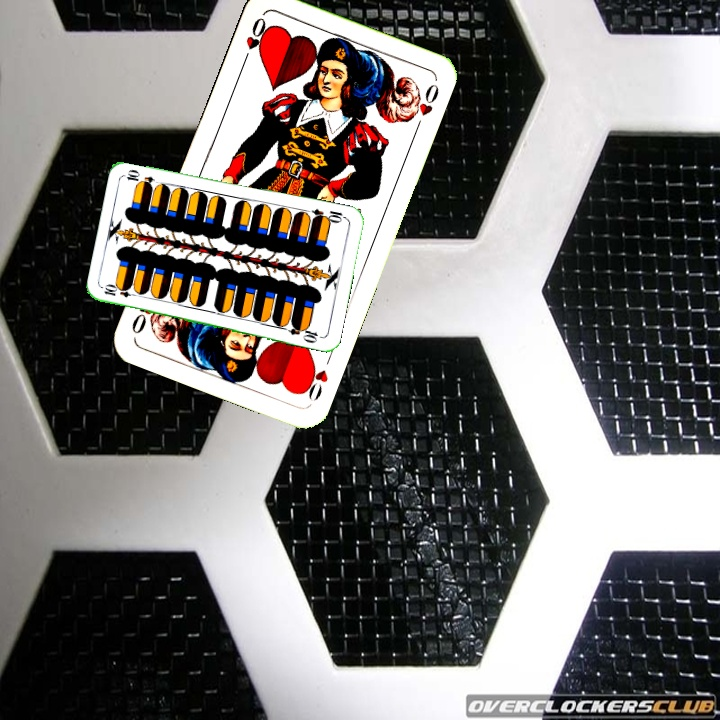E10: (308, 205, 349, 226), (100, 282, 141, 300)
HO: (298, 349, 335, 404), (238, 13, 269, 69)
